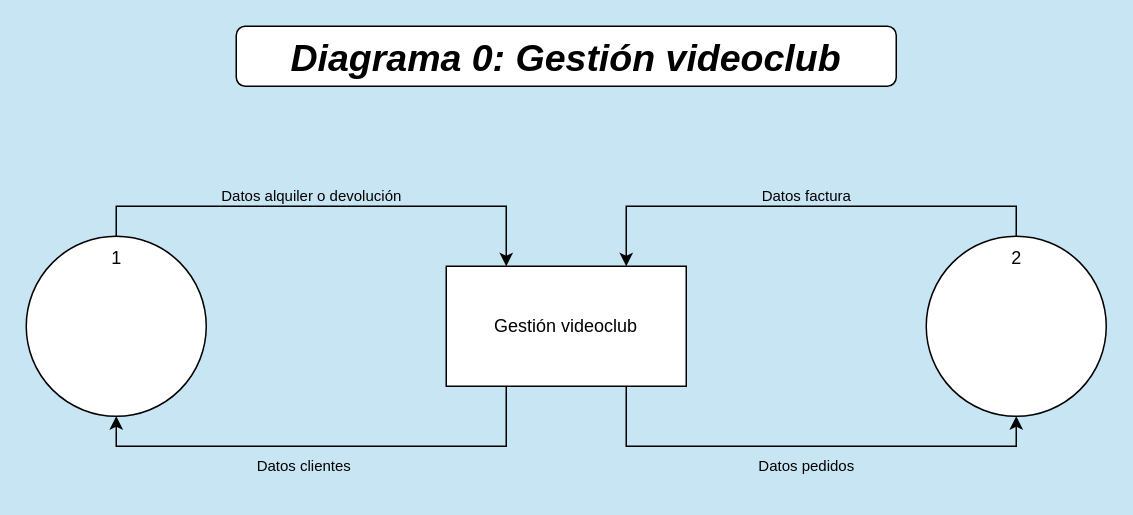
Some shapes in this 1133 by 515 pixel diagram are drawn without their labels. Each missing label, with the box of its shape:
Alquiler clientes: (25, 235, 206, 416)
Pedido proveedores: (925, 235, 1106, 416)
